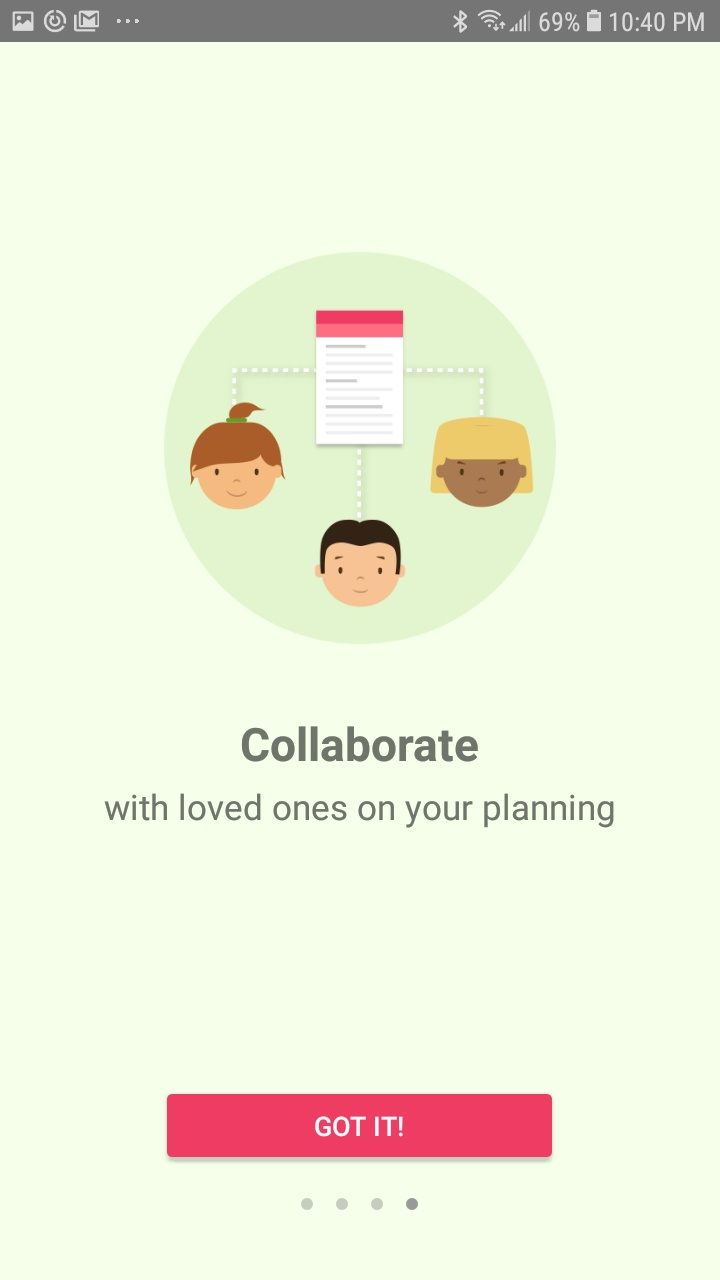Image: (163, 251, 557, 645)
PageIndicator: (301, 1197, 419, 1211)
Text: (105, 793, 615, 829), (242, 726, 479, 763)
TextButton: (167, 1093, 553, 1158)
UpperTaskBar: (1, 1, 720, 43)
